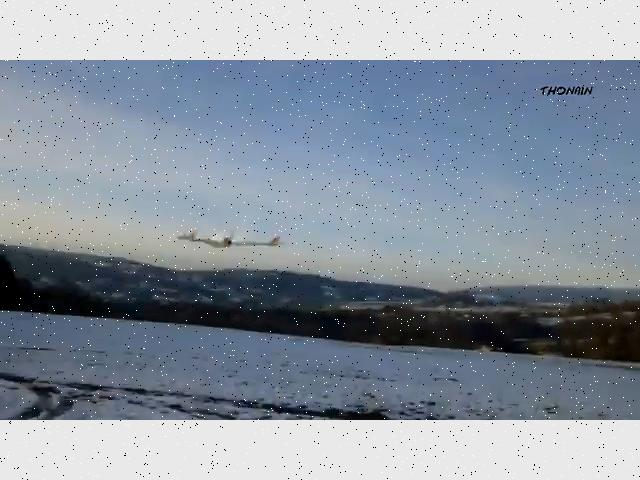Anti-Drone: (150, 220, 300, 254)
